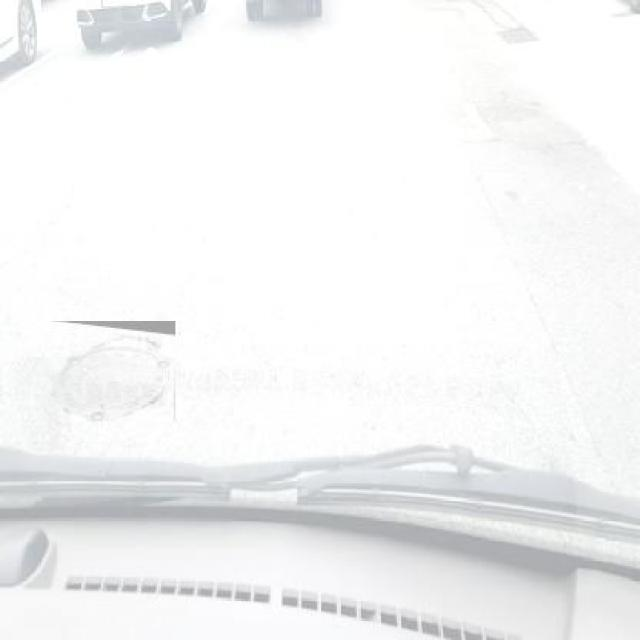Manhole: (46, 320, 175, 422), (497, 26, 542, 46)
